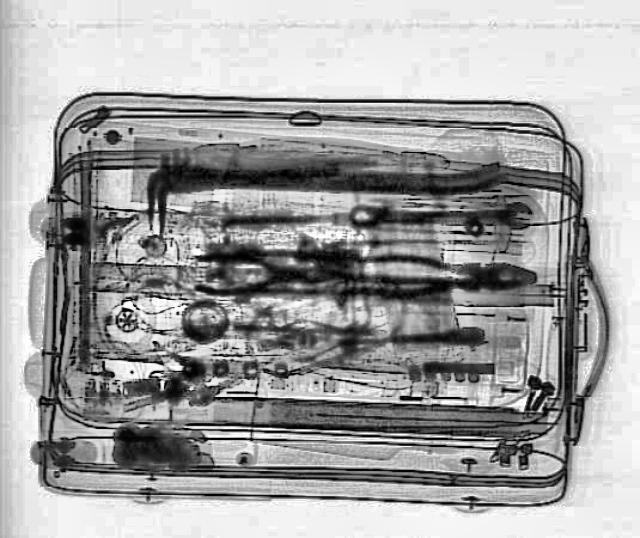Pliers: (338, 250, 536, 296), (190, 250, 330, 296)
Wrench: (348, 200, 532, 226)
